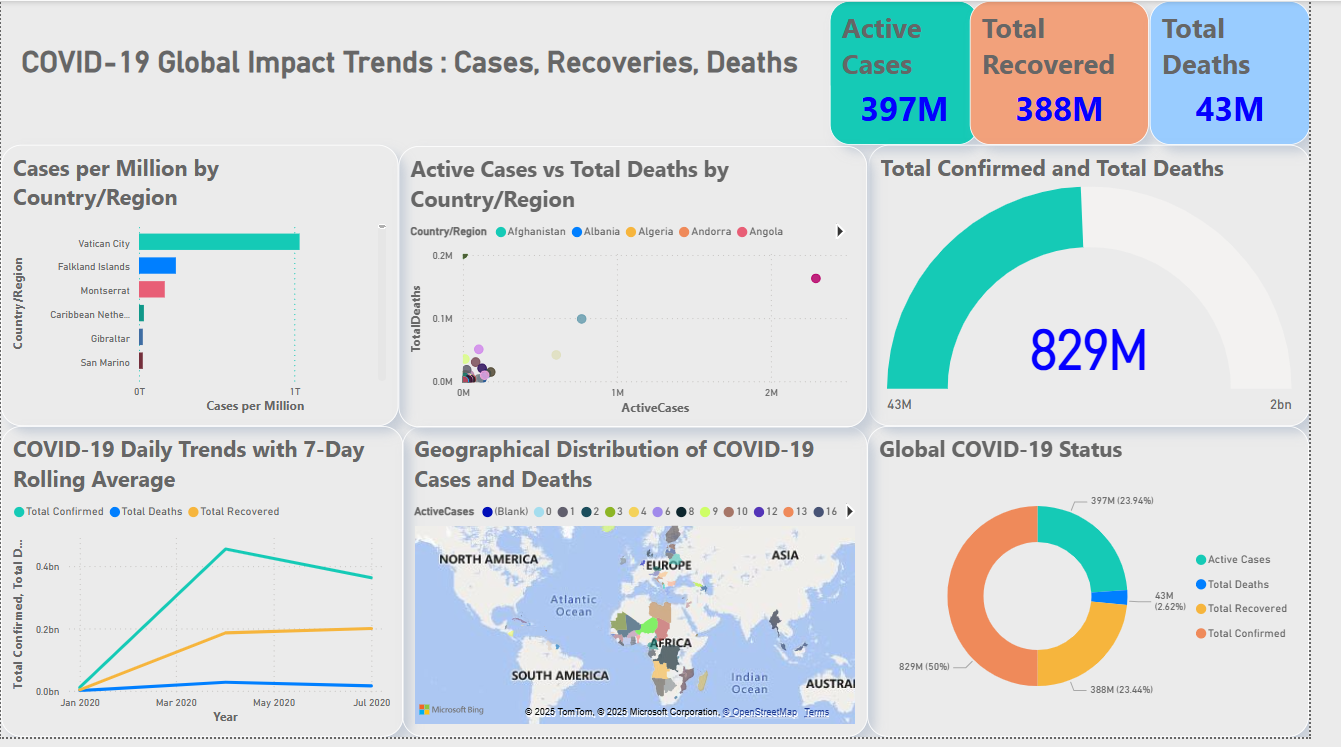

What the dashboard file says about the page in this screenshot:
{"tool":"powerbi","page":{"name":"Page 1","canvas":[1280,720],"ordinal":0},"visuals":[{"type":"card","title":"Active Cases","fields":{"Values":["day_wise.Active Cases"]},"box":[810.7,0,145.5,140.6],"z":0},{"type":"card","title":"Total Recovered","fields":{"Values":["day_wise.Total Recovered"]},"box":[948.3,0,174.9,141.2],"z":1000},{"type":"card","title":"Total Deaths","fields":{"Values":["day_wise.Total Deaths"]},"box":[1123.2,0,156.8,141.2],"z":2000},{"type":"clusteredBarChart","fields":{"Category":["worldometer_data.Country/Region"],"Y":["worldometer_data.Cases per Million"]},"box":[0,140.6,388.9,275.1],"z":3000},{"type":"lineChart","title":"COVID-19 Daily Trends with 7-Day Rolling Average","fields":{"Category":["day_wise.Date.Variation.Date Hierarchy.Year","day_wise.Date.Variation.Date Hierarchy.Quarter","day_wise.Date.Variation.Date Hierarchy.Month","day_wise.Date.Variation.Date Hierarchy.Day"],"Y":["day_wise.Total Confirmed","day_wise.Total Deaths","day_wise.Total Recovered"]},"box":[0,416.2,393.3,304],"z":4000},{"type":"gauge","fields":{"Y":["day_wise.Total Confirmed"],"MinValue":["day_wise.Total Deaths"]},"box":[848.1,141.2,431.9,275.1],"z":5000},{"type":"filledMap","title":"Geographical Distribution of COVID-19 Cases and Deaths","fields":{"Category":["worldometer_data (2).Country/Region","worldometer_data (2).TotalCases"],"Series":["worldometer_data (2).ActiveCases"]},"box":[393,416,455,304],"z":6000},{"type":"scatterChart","title":"Active Cases vs Total Deaths by Country/Region","fields":{"Series":["worldometer_data (2).Country/Region"],"X":["worldometer_data (2).ActiveCases"],"Y":["worldometer_data (2).TotalDeaths"]},"box":[388.9,141.8,458.6,275.1],"z":7000},{"type":"donutChart","title":"Global COVID-19 Status","fields":{"Y":["day_wise.Active Cases","day_wise.Total Deaths","day_wise.Total Recovered","day_wise.Total Confirmed"]},"box":[848,416,432,304],"z":8000},{"type":"textbox","box":[0,31.8,810.7,56.3],"z":9000}]}

Visuals, with their boxes in screenshot pixels (x1, y1, x2, y2), scaled from the page's 1280x720 canvas onto the 1341x747 screenshot:
"Active Cases" card: {"x1": 849, "y1": 0, "x2": 1002, "y2": 146}
"Total Recovered" card: {"x1": 993, "y1": 0, "x2": 1177, "y2": 146}
"Total Deaths" card: {"x1": 1177, "y1": 0, "x2": 1340, "y2": 146}
clusteredBarChart - worldometer_data.Country/Region x worldometer_data.Cases per Million: {"x1": 0, "y1": 146, "x2": 407, "y2": 431}
"COVID-19 Daily Trends with 7-Day Rolling Average" lineChart: {"x1": 0, "y1": 432, "x2": 412, "y2": 746}
gauge - day_wise.Total Confirmed x day_wise.Total Deaths: {"x1": 889, "y1": 146, "x2": 1340, "y2": 432}
"Geographical Distribution of COVID-19 Cases and Deaths" filledMap: {"x1": 412, "y1": 432, "x2": 888, "y2": 746}
"Active Cases vs Total Deaths by Country/Region" scatterChart: {"x1": 407, "y1": 147, "x2": 888, "y2": 433}
"Global COVID-19 Status" donutChart: {"x1": 888, "y1": 432, "x2": 1340, "y2": 746}
textbox: {"x1": 0, "y1": 33, "x2": 849, "y2": 91}
